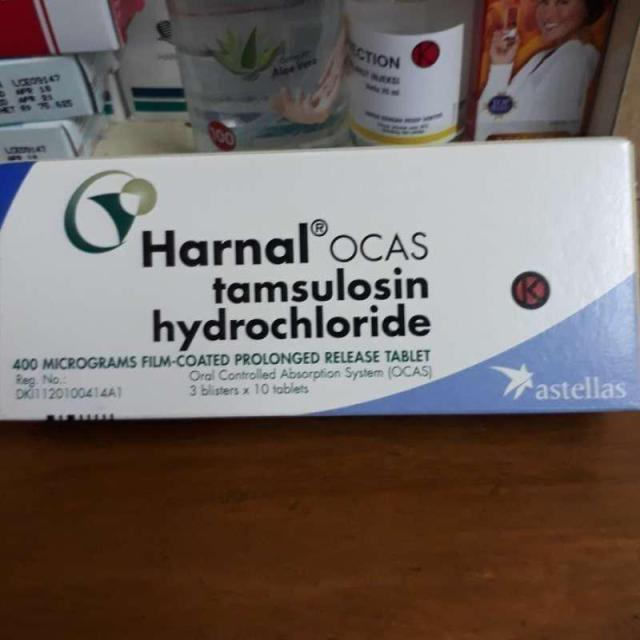drug-name: (140, 220, 310, 270)
